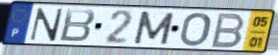2: (105, 9, 134, 46)
B: (208, 12, 247, 49), (58, 7, 98, 43)
M: (132, 10, 177, 46)
N: (27, 7, 66, 43)
O: (178, 11, 213, 48)
